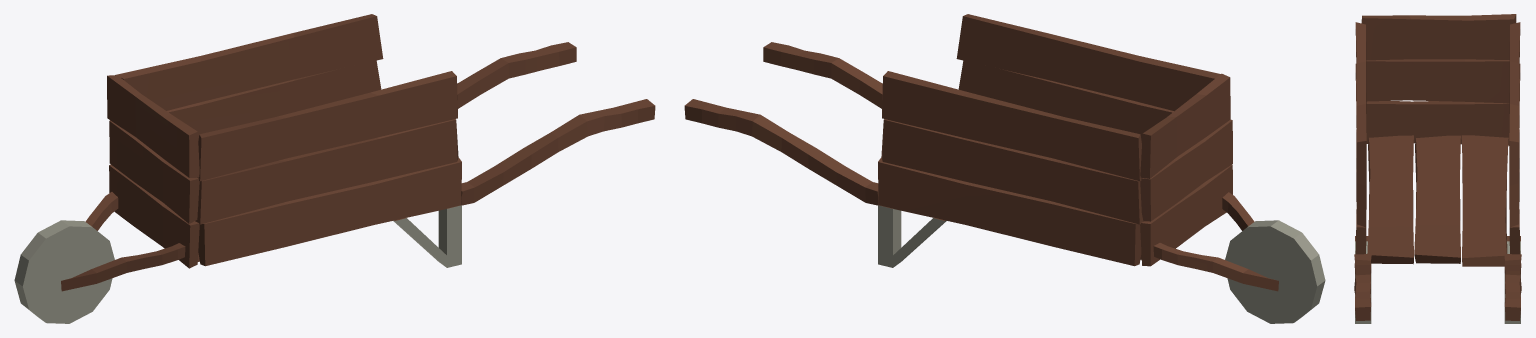
Rendered from Wheel_Barrow.fbx.
3 views of the same model, side by side, from view 1: azimuth 30°, elevation 25°; view 2: azimuth 150°, elevation 25°; view 3: azimuth 270°, elevation 25° (orthographic). The views are drawn at different scales.
Parts seen in each view (by area): view 1: Wheelbarrow; view 2: Wheelbarrow; view 3: Wheelbarrow.
Part boxes in pixels (bbox=[...]): Wheelbarrow: bbox=[14, 14, 655, 323]; Wheelbarrow: bbox=[684, 14, 1325, 323]; Wheelbarrow: bbox=[1354, 14, 1521, 323].
Size of the model in its own units: 93.86 by 29.59 by 24.07.
